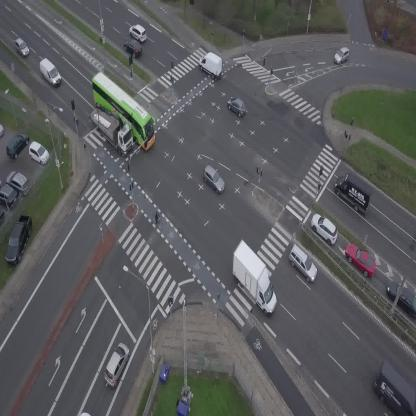bicycle: (152, 211, 163, 230)
bus: (80, 68, 166, 153)
car: (340, 238, 382, 281), (282, 243, 323, 284), (100, 340, 134, 388), (306, 209, 343, 247), (198, 164, 230, 195), (223, 93, 250, 119), (126, 21, 151, 45), (121, 36, 146, 60), (10, 36, 31, 60), (331, 45, 353, 66)
lorry: (217, 239, 292, 316), (84, 100, 142, 158), (328, 169, 380, 217), (194, 48, 228, 81), (35, 57, 65, 87)
